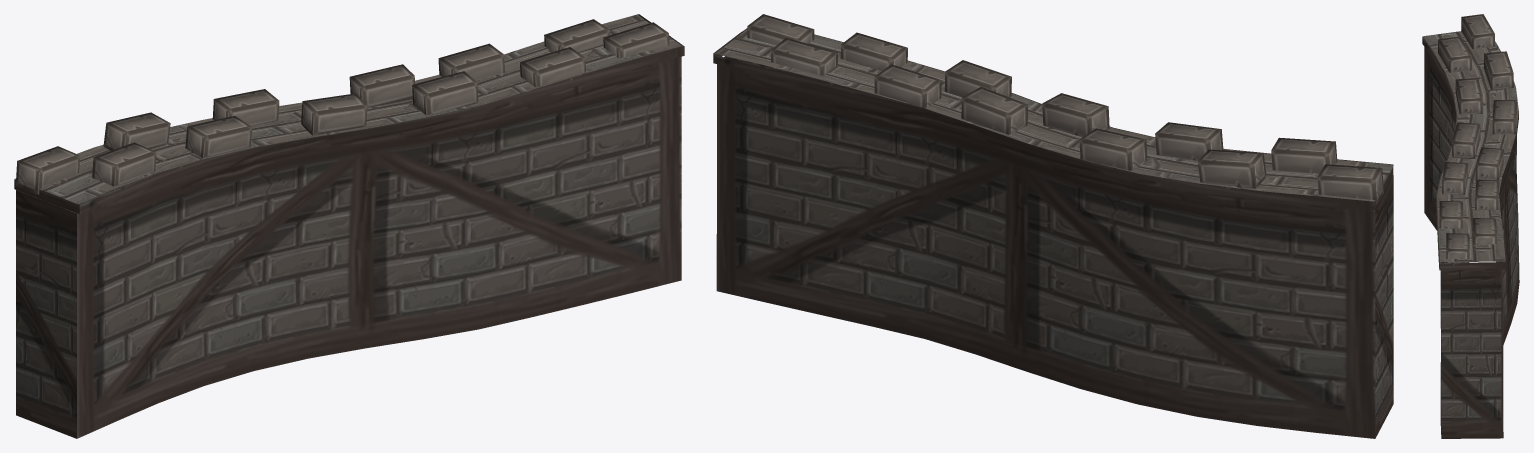
The model's file is Wall_breakable.fbx.
3 views of the same model, side by side, from view 1: azimuth 30°, elevation 25°; view 2: azimuth 150°, elevation 25°; view 3: azimuth 270°, elevation 25° (orthographic). The views are drawn at different scales.
Parts seen in each view (by area): view 1: polySurface87; view 2: polySurface87; view 3: polySurface87.
Part boxes in pixels (x1,y1,x2,y2): polySurface87: (14,14,684,438); polySurface87: (713,14,1393,438); polySurface87: (1422,14,1519,438).
Size of the model in its own units: 8.94 by 3.41 by 1.56.
